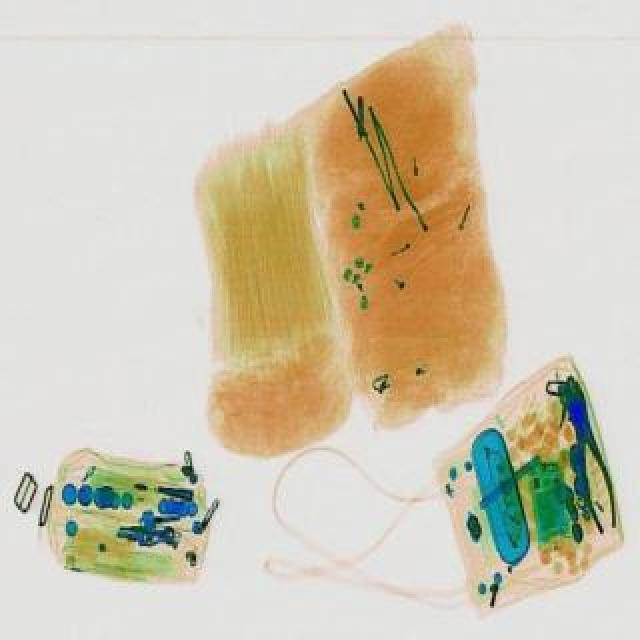wrench: (554, 370, 624, 534)
